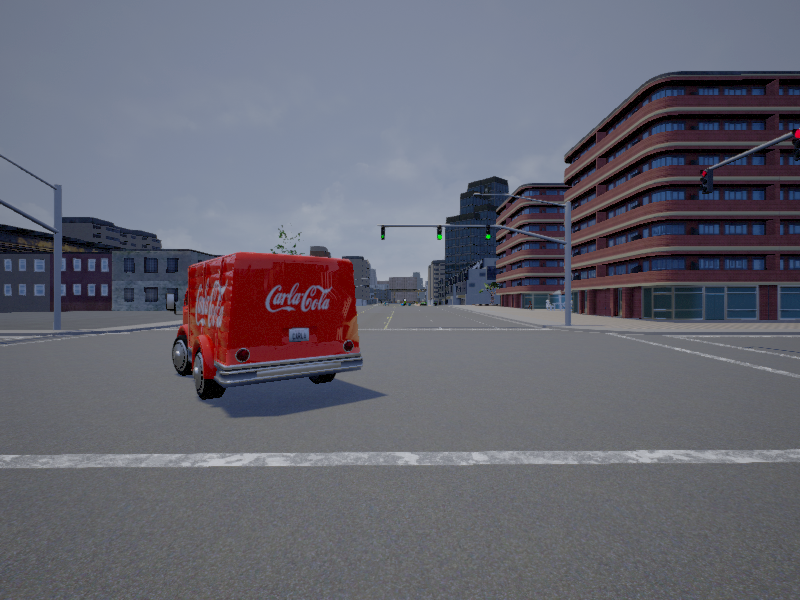Benign: (169, 261, 362, 397)
